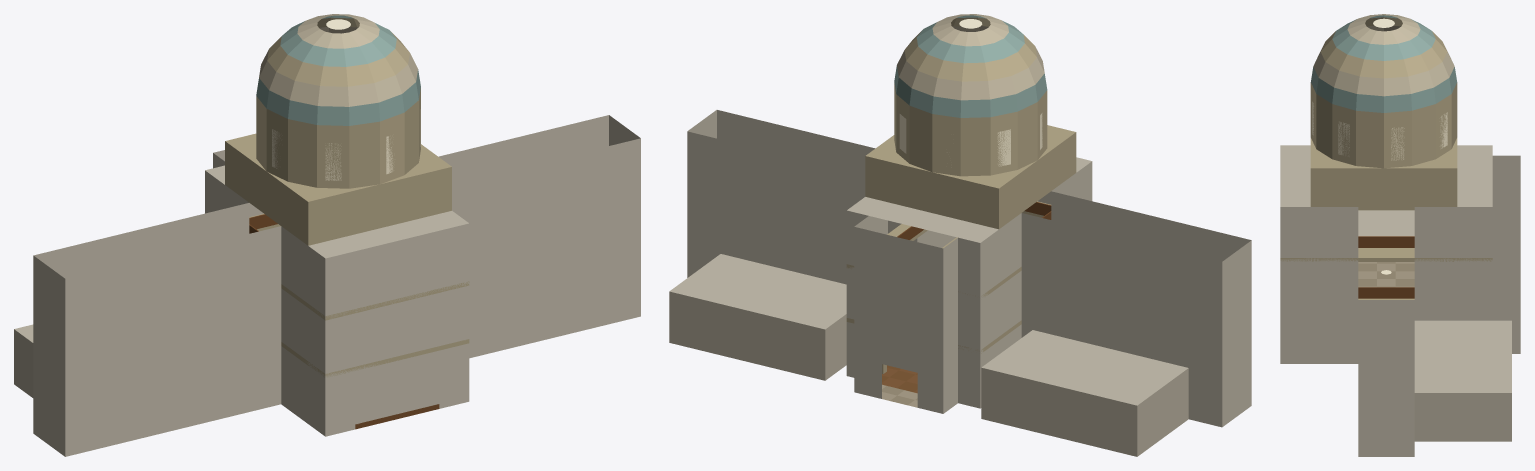
Rendered from oldmain_int.glb.
3 views of the same model, side by side, from view 1: azimuth 30°, elevation 25°; view 2: azimuth 150°, elevation 25°; view 3: azimuth 270°, elevation 25° (orthographic). The views are drawn at different scales.
Visible parts, largest first — view 1: oldmain_int; view 2: oldmain_int; view 3: oldmain_int.
Part boxes in pixels (x1,y1,x2,y2): oldmain_int: [14, 14, 640, 456]; oldmain_int: [669, 14, 1251, 456]; oldmain_int: [1280, 14, 1520, 456].
Bounding box in the file's own units: 48 × 28.01 × 19.7.
